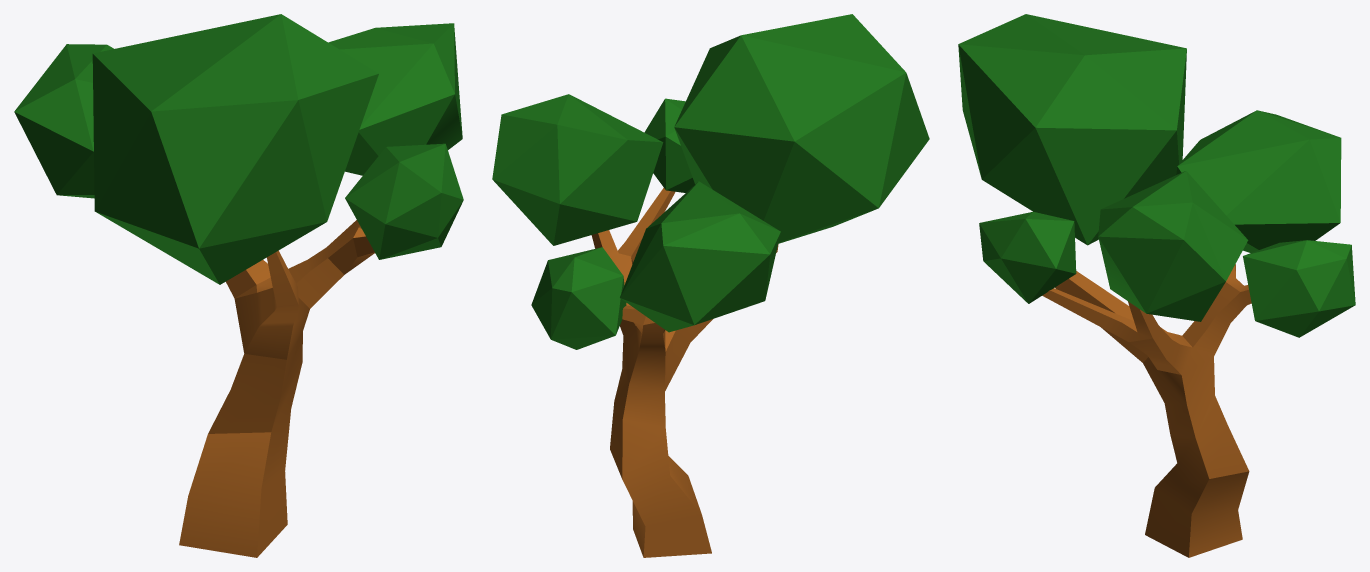
The model's file is Tree.fbx.
The picture shows the model from 3 angles, left to right: view 1: azimuth 30°, elevation 25°; view 2: azimuth 150°, elevation 25°; view 3: azimuth 270°, elevation 25°; orthographic projection. The views are drawn at different scales.
Parts seen in each view (by area): view 1: newtree.008; view 2: newtree.008; view 3: newtree.008.
Boxes of the visible parts, x1,y1,x2,y2 form: newtree.008: (14,14,463,557); newtree.008: (492,14,929,557); newtree.008: (958,14,1355,557).
Size of the model in its own units: 877 by 1156 by 865.
